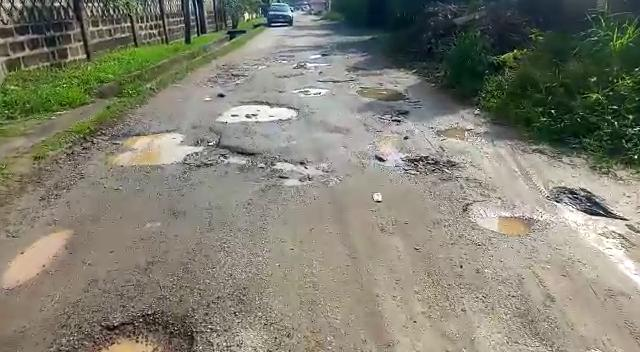pothole: (100, 127, 262, 168), (75, 310, 198, 352), (2, 228, 76, 290), (546, 188, 630, 222), (465, 200, 542, 237), (218, 100, 303, 122), (398, 152, 462, 180), (272, 160, 330, 188), (436, 124, 490, 144), (356, 86, 412, 104), (293, 86, 332, 95), (316, 76, 358, 84)
